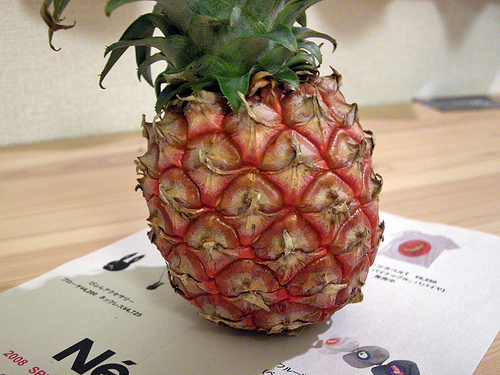pineapple: (99, 0, 384, 335)
